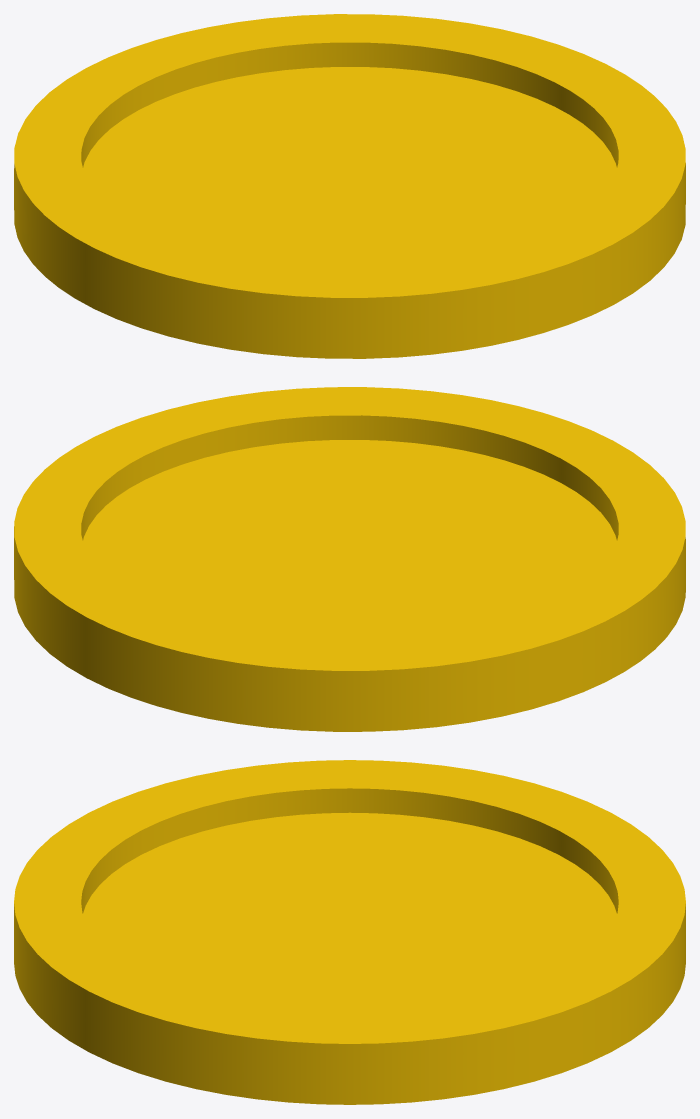
Rendered from Coin 1.fbx.
3 views of the same model, one above another, from view 1: azimuth 30°, elevation 25°; view 2: azimuth 150°, elevation 25°; view 3: azimuth 270°, elevation 25° (orthographic).
Visible parts, largest first — view 1: Body1; view 2: Body1; view 3: Body1.
Boxes of the visible parts, x1,y1,x2,y2 form: Body1: (14,14,685,358); Body1: (14,387,685,731); Body1: (14,760,685,1104).
Bounding box in the file's own units: 50 × 5 × 50.
